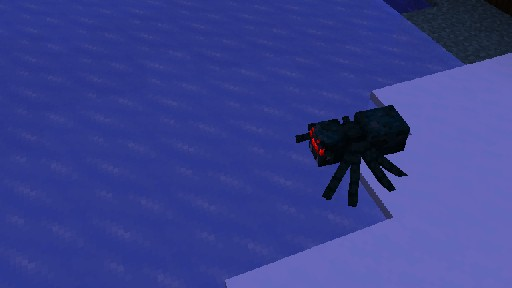cave_spider: (294, 104, 410, 206)
